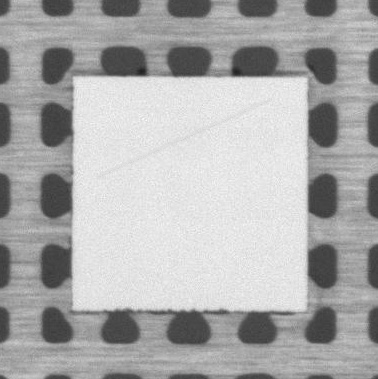DIE_CRACK: (99, 99, 271, 176)
